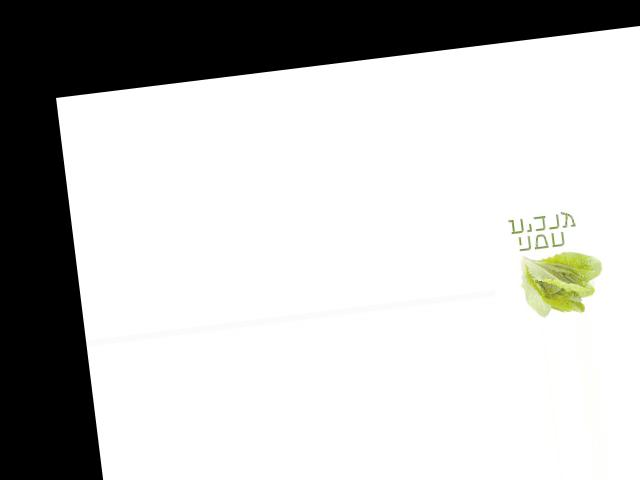lettuce: (512, 240, 607, 320)
